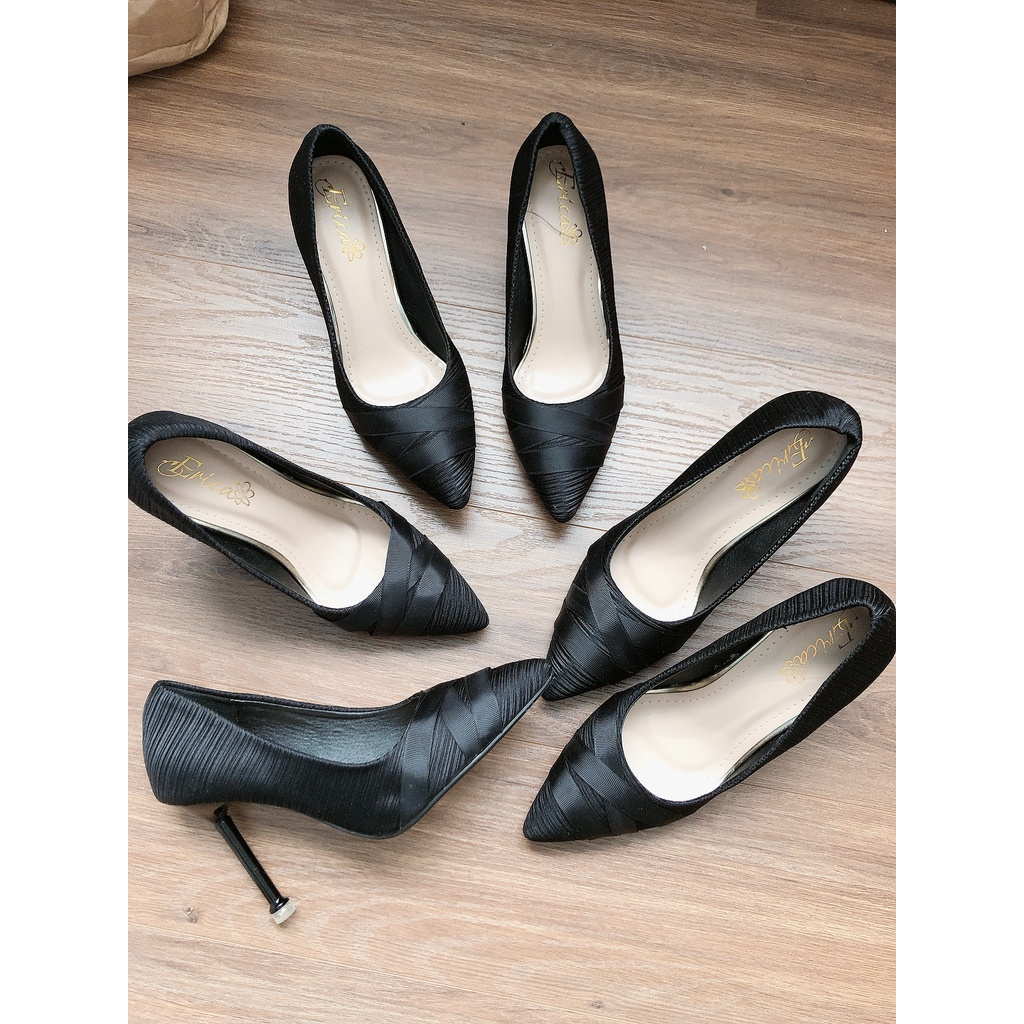high heels: (141, 653, 555, 924), (542, 383, 861, 703), (521, 584, 897, 847), (121, 408, 492, 639), (282, 121, 484, 508), (496, 107, 626, 534)
